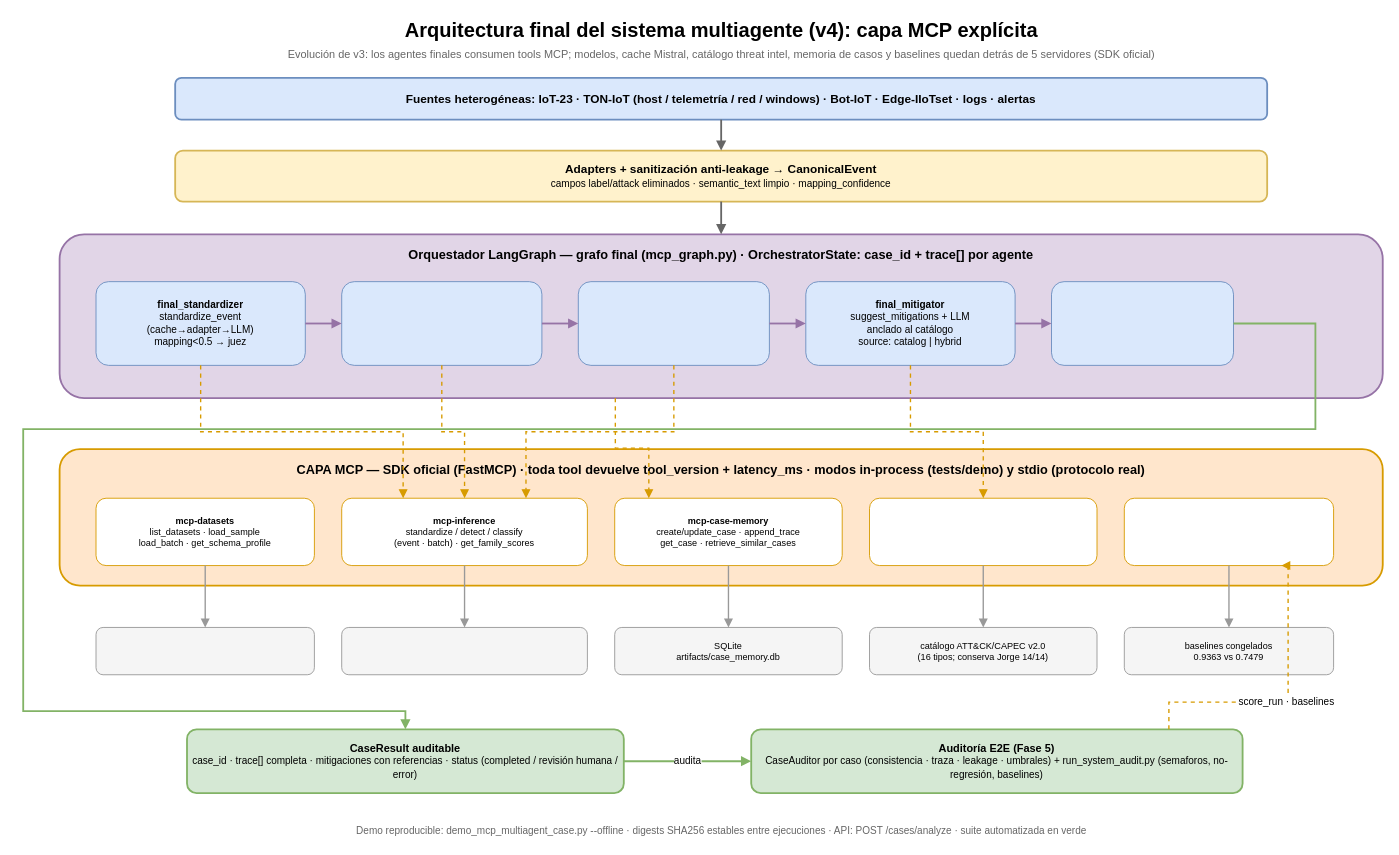
This 1399x855 diagram has some shape labels left out. The centre of each missing label's shape, as x and y in pixels:
data/ crudo + corpus estandarizado: pixel 204 651
final_classifier classify_event tipo + familia + confianza + top-3: pixel 673 323
final_detector detect_event (XGBoost) zona gris 0.4–0.6 → abstención: pixel 441 323
final_judge umbrales + errores approve / revisión humana: pixel 1142 323
mcp-evaluation score_run · compare_with_baseline export_report: pixel 1228 531
mcp-threat-intel map ATT&CK / CAPEC suggest_mitigations · cobertura Jorge: pixel 983 531
modelos .joblib desplegados + cache Mistral congelado (13.837, 0 err.): pixel 464 651
